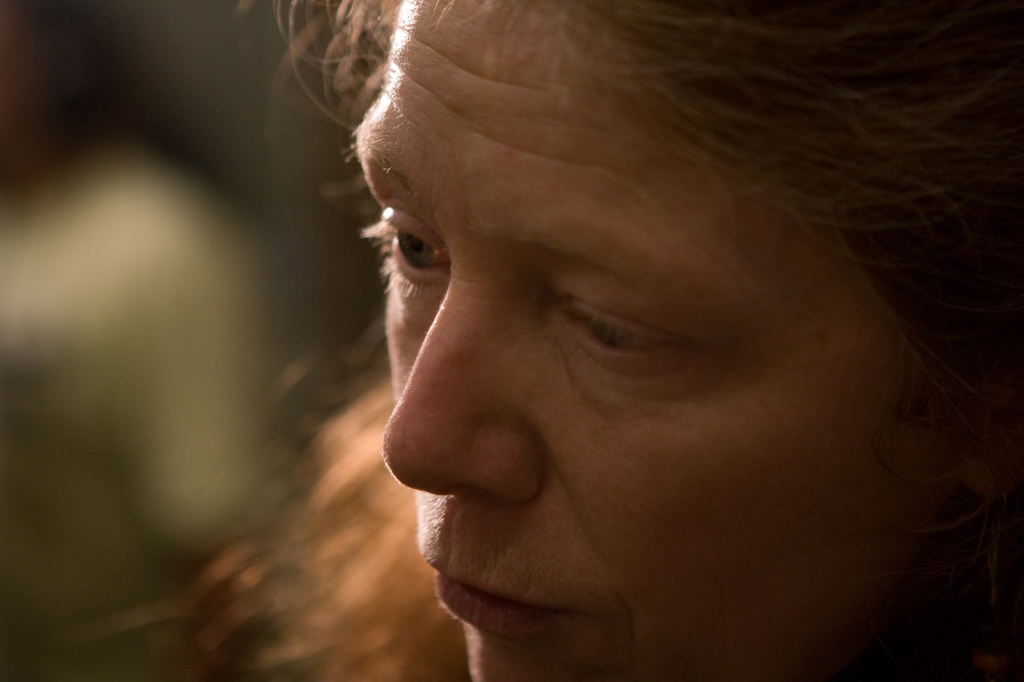Human-face: (374, 0, 981, 681)
